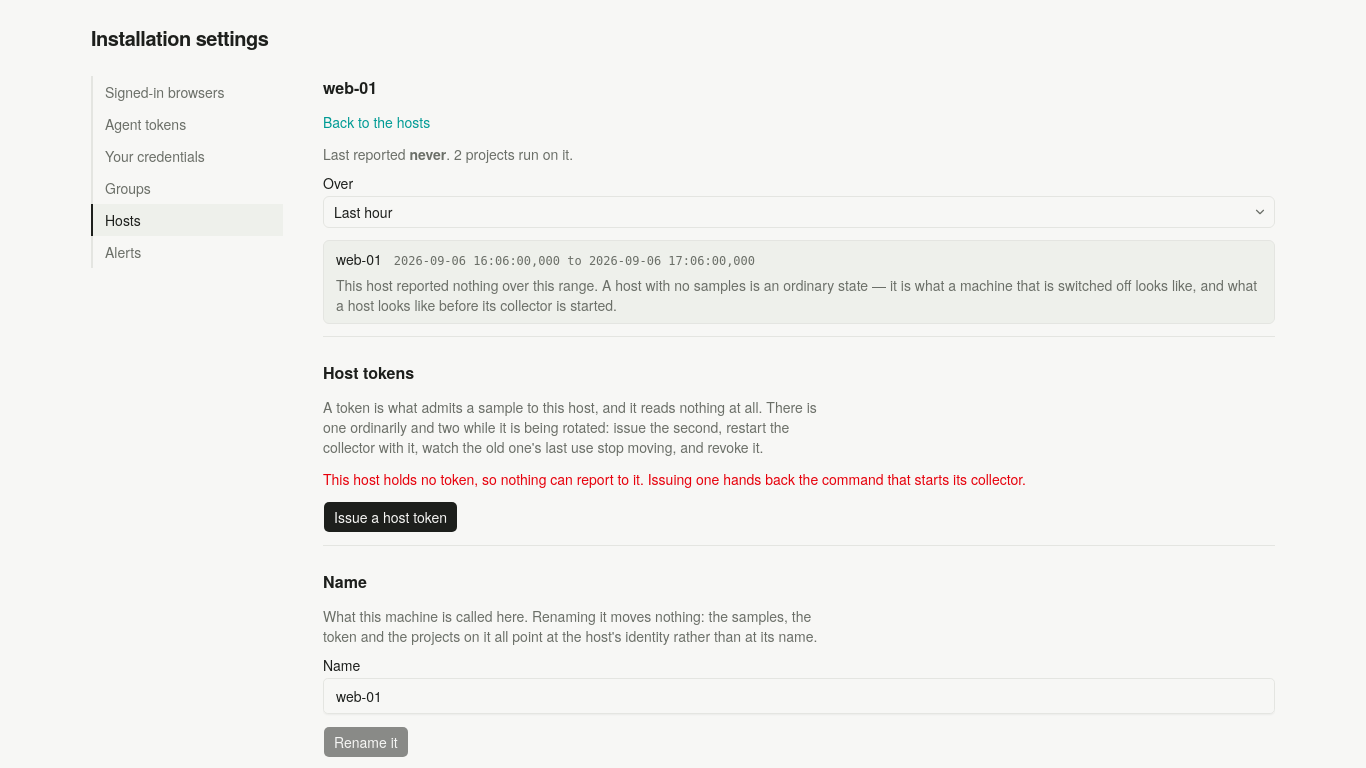
Test: a host's own screen › hands back the collector command when its token is issued
Click the button "Issue a host token".
click(391, 517)  # box [323,501,458,533]
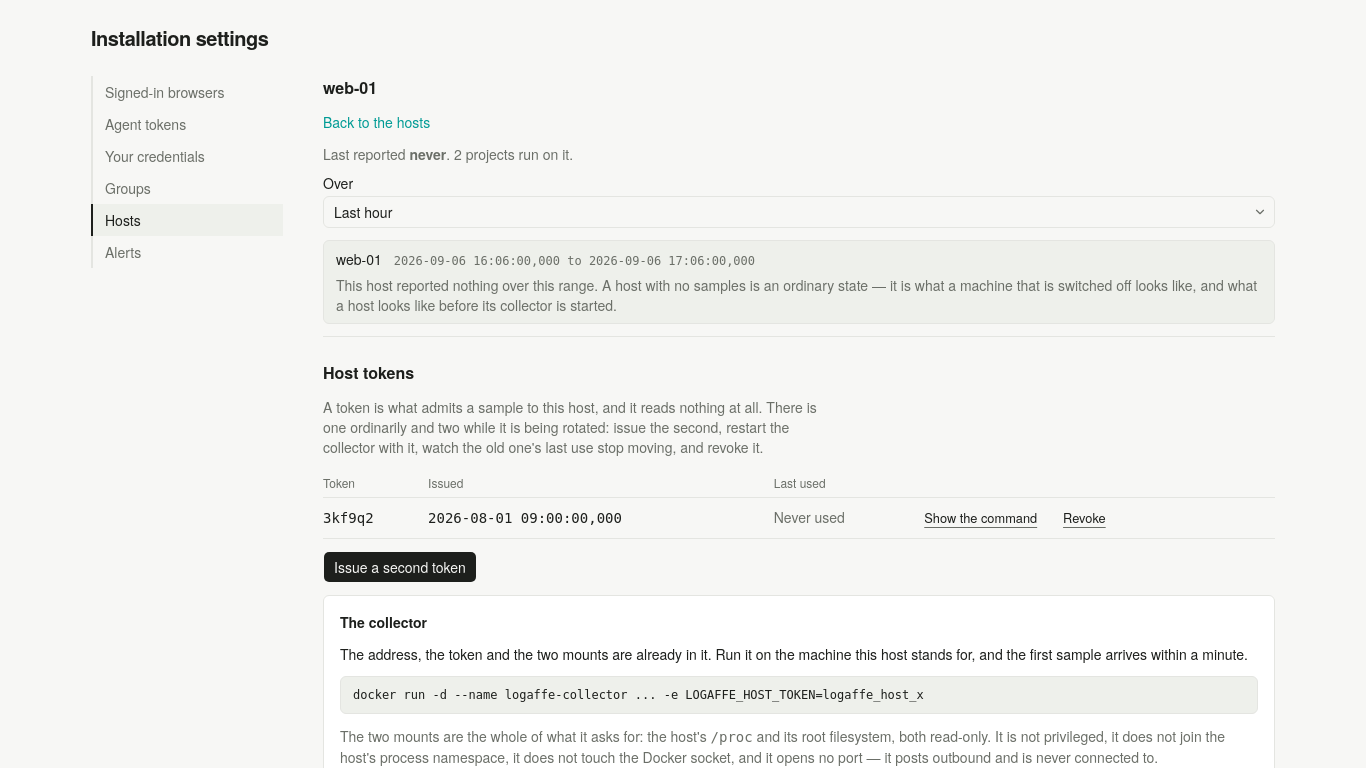
Expected: the text "docker run -d --name logaffe-collector ... -e LOGAFFE_HOST_TOKEN=logaffe_host_x" is shown, [340,676,1258,714]
Expected: the text "read-only" is shown, [340,726,1225,767]
